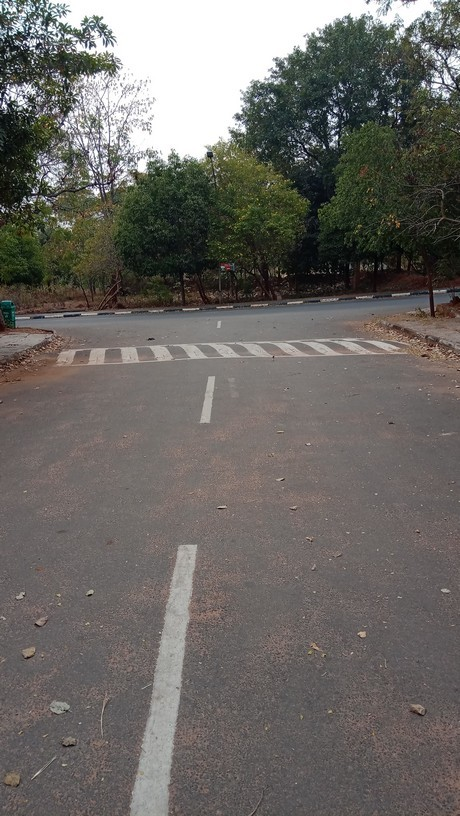bump: (27, 337, 424, 358)
